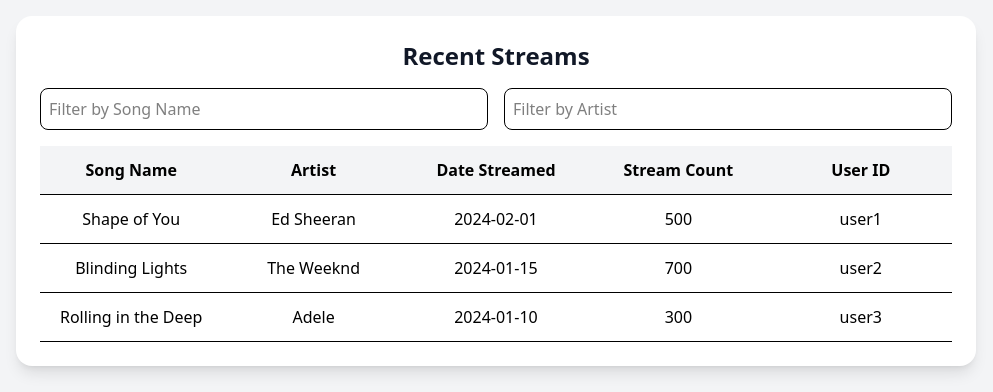
Test: DataTable Component › filters table based on both song name and artist search inputs
Expected: the text "Shape of You" is shown, [40,194,222,244]
Expected: the text "Blinding Lights" is shown, [40,244,222,292]
Type "Shape" into the field with placeholder "Filter by Song Name" at [264, 109], box [40,88,488,130]
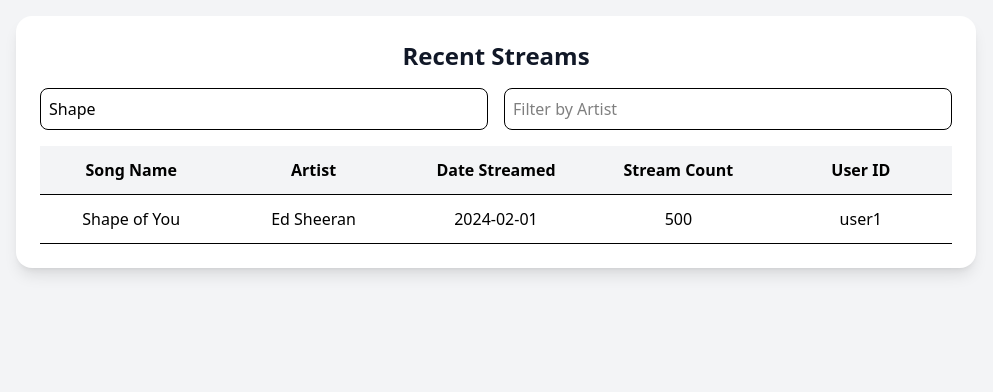
Expected: the text "Shape of You" is shown, [40,194,222,244]
Expected: the text "Blinding Lights" is gone
Expected: the text "Rolling in the Deep" is gone
Clear the field with placeholder "Filter by Song Name" at [264, 109], box [40,88,488,130]
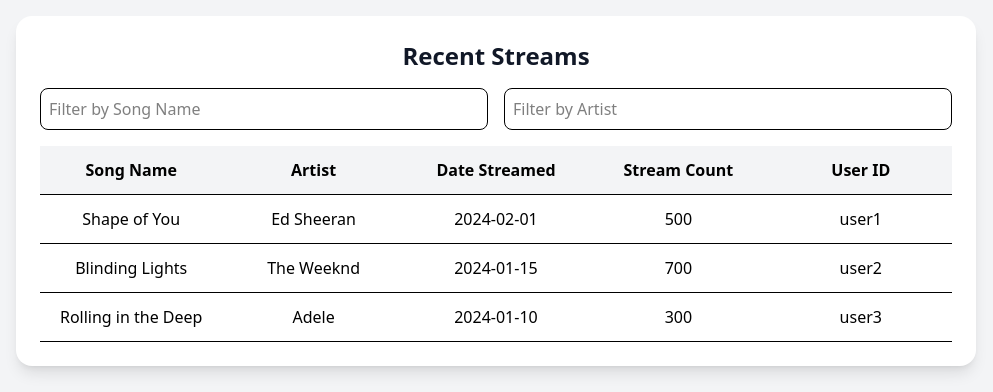
Type "Weeknd" into the field with placeholder "Filter by Artist" at [728, 109], box [504,88,952,130]
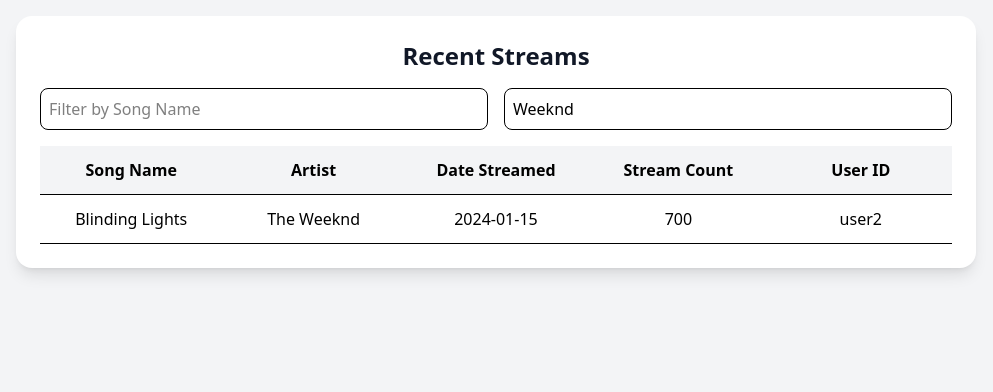
Expected: the text "Blinding Lights" is shown, [40,194,222,244]
Expected: the text "Shape of You" is gone
Expected: the text "Rolling in the Deep" is gone
